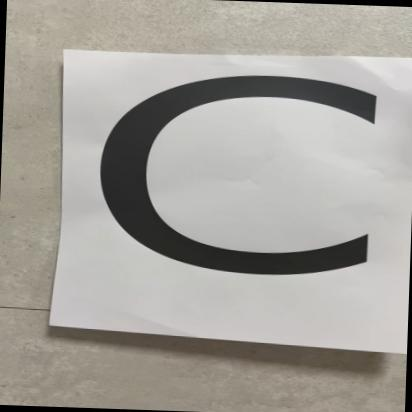seat: (52, 44, 412, 352)
